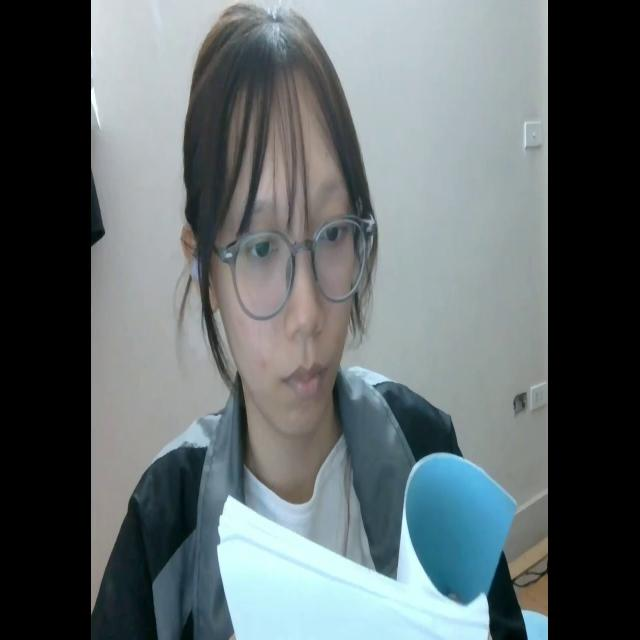book: (196, 440, 514, 640)
student: (108, 10, 521, 640)
